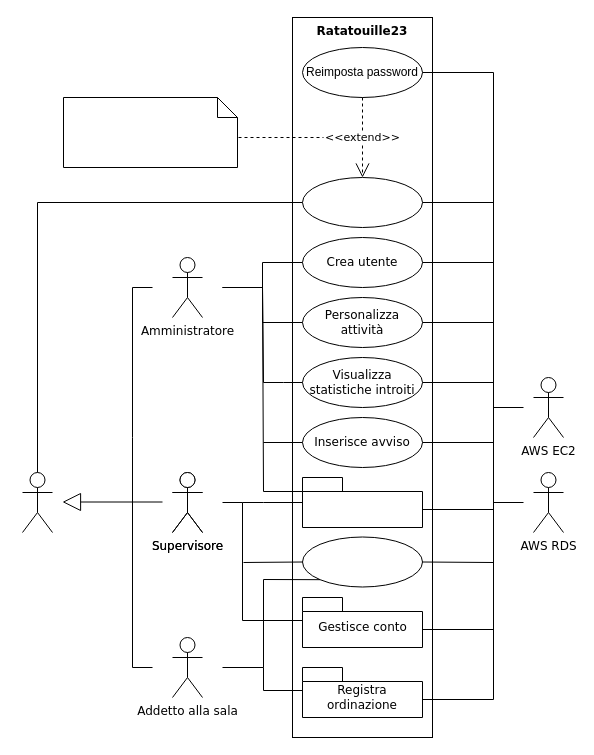
Image size: 594x755. Some labels were removed from this diagram. Each missing label, with the box of its shape:
Al primo accesso per supervisore e addetto alla sala: (62, 96, 238, 168)
Effettua login: (302, 176, 422, 228)
Personalizza menù: (302, 476, 422, 528)
Utente: (22, 472, 52, 532)
Visualizza avvisi: (302, 536, 422, 587)
